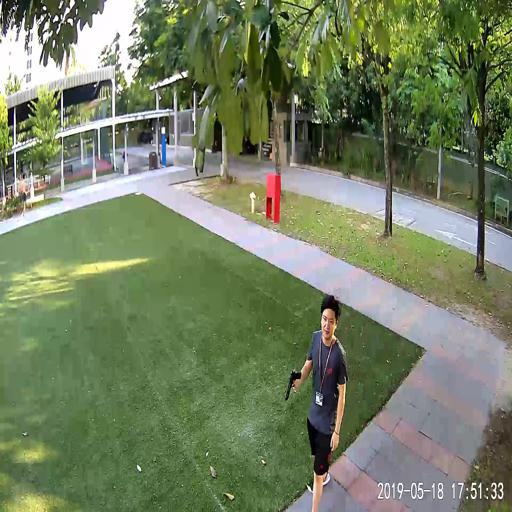Handgun: (282, 367, 300, 400)
